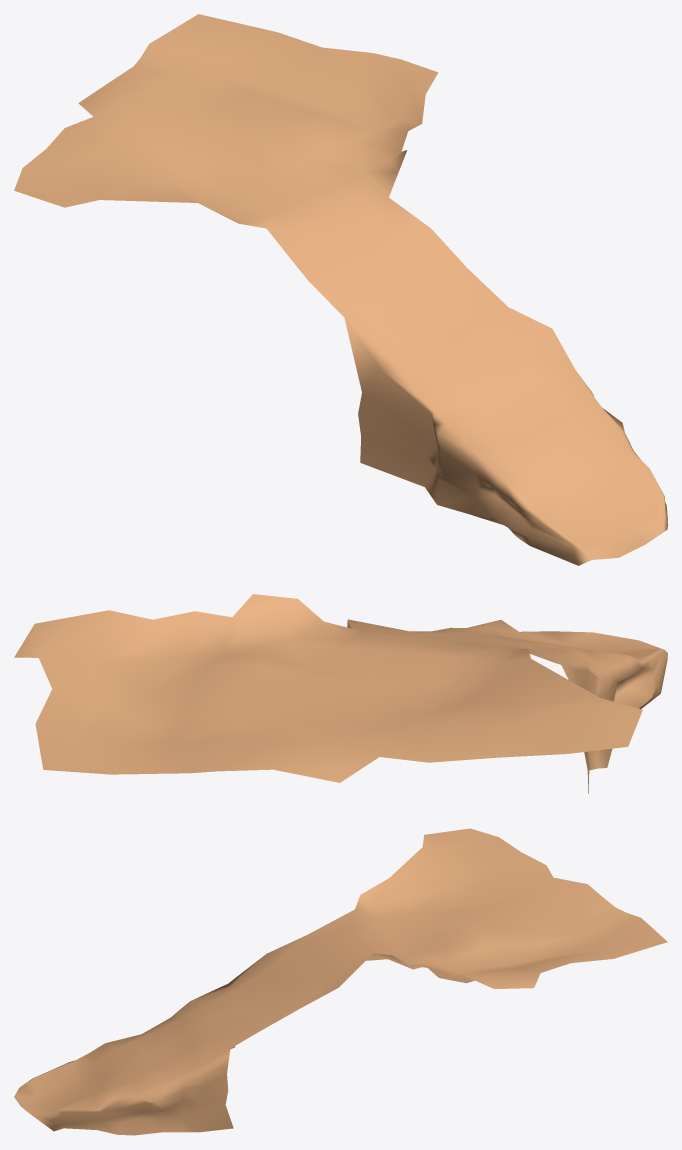
Rendered from relief_6.low.fbx.
3 renders of one model, top to bottom at view 1: azimuth 30°, elevation 25°; view 2: azimuth 150°, elevation 25°; view 3: azimuth 270°, elevation 25°, orthographic. The views are drawn at different scales.
Parts seen in each view (by area): view 1: relief.6.low; view 2: relief.6.low; view 3: relief.6.low.
Part boxes in pixels (<box>): relief.6.low: <box>14,14,667,565</box>; relief.6.low: <box>14,594,667,793</box>; relief.6.low: <box>14,828,667,1135</box>.
Bounding box in the file's own units: 805 × 404 × 1390.
